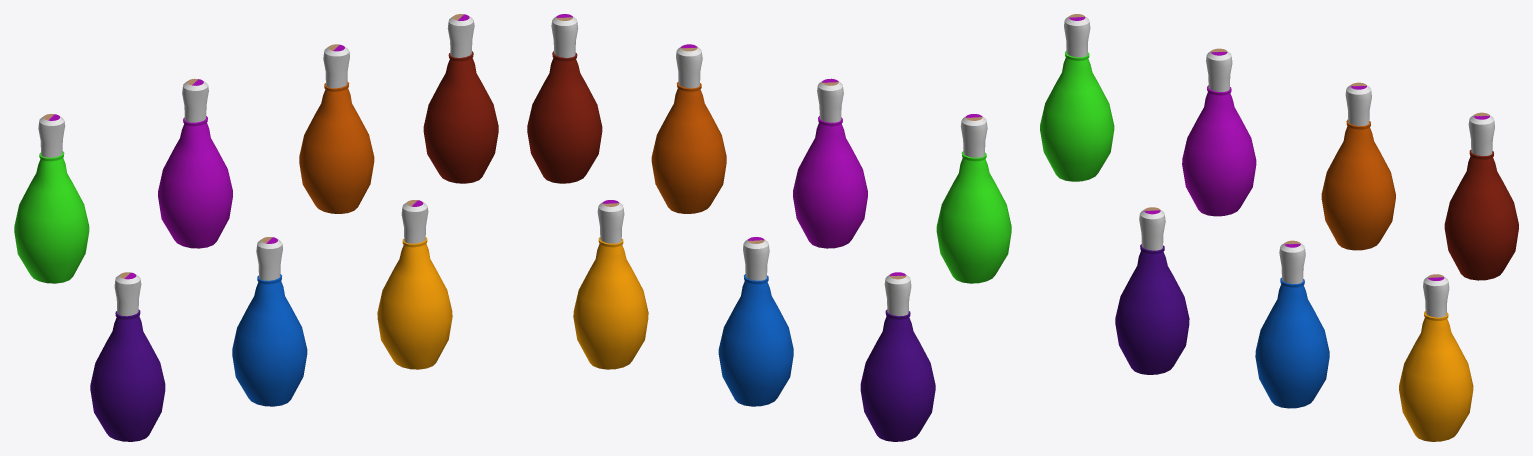
Rendered from Color.fbx.
3 views of the same model, side by side, from view 1: azimuth 30°, elevation 25°; view 2: azimuth 150°, elevation 25°; view 3: azimuth 330°, elevation 25° (orthographic).
Visible parts, largest first — view 1: Blue, Purple, Green, Orange, Yellow, Pink, Red; view 2: Green, Purple, Blue, Orange, Yellow, Pink, Red; view 3: Purple, Blue, Orange, Pink, Yellow, Red, Green.
Boxes of the visible parts, <box> form: Blue: <box>232,237,307,406</box>; Purple: <box>90,272,165,441</box>; Green: <box>14,114,89,283</box>; Orange: <box>299,44,374,213</box>; Yellow: <box>377,200,452,369</box>; Pink: <box>158,78,232,248</box>; Red: <box>423,14,498,183</box>; Green: <box>936,114,1011,283</box>; Purple: <box>860,272,935,441</box>; Blue: <box>718,237,793,406</box>; Orange: <box>651,44,726,213</box>; Yellow: <box>573,200,648,369</box>; Pink: <box>793,78,867,248</box>; Red: <box>527,14,602,183</box>; Purple: <box>1115,207,1189,374</box>; Blue: <box>1255,240,1329,408</box>; Orange: <box>1321,82,1395,250</box>; Pink: <box>1182,48,1256,216</box>; Yellow: <box>1399,274,1473,441</box>; Red: <box>1444,112,1518,280</box>; Green: <box>1040,14,1114,181</box>.
Bounding box in the file's own units: 872 × 584 × 117.
